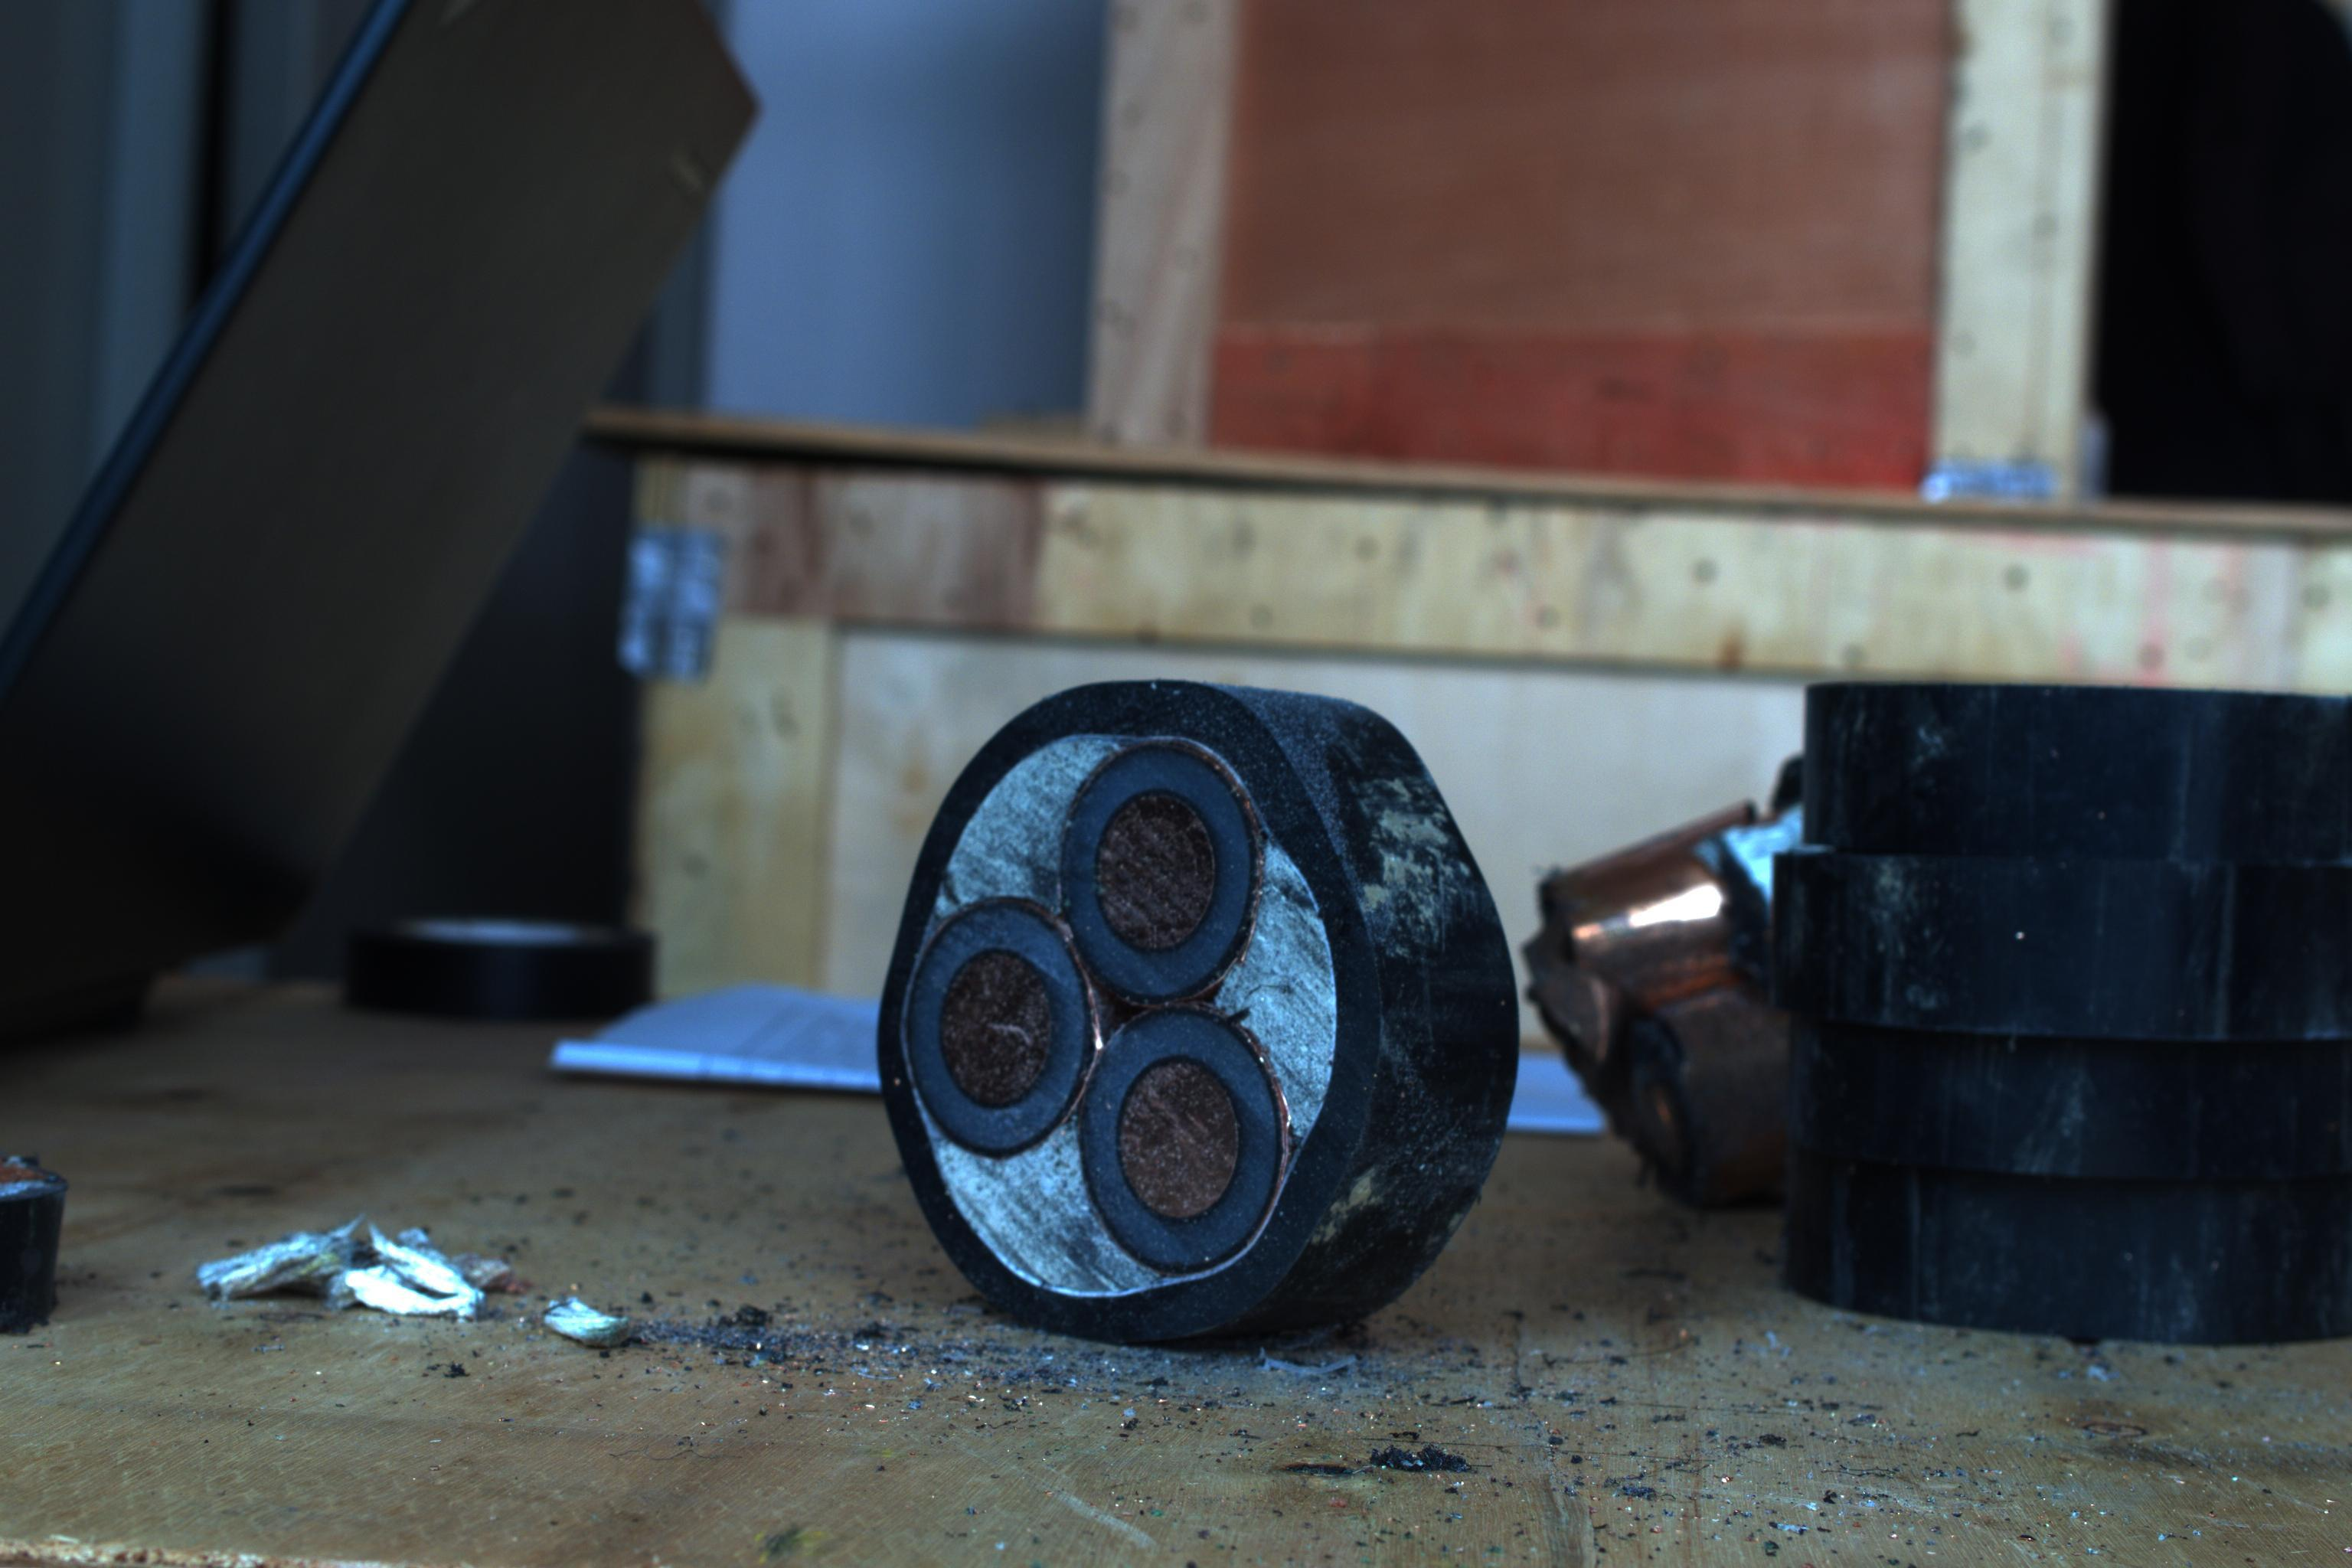ZA_YJV_8.7_10kV_3x240: (889, 703, 1367, 1309)
